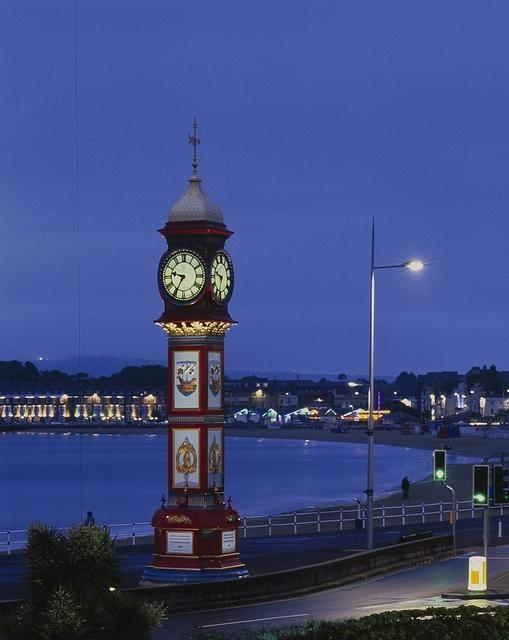car: (328, 427, 349, 434), (378, 424, 396, 431)
